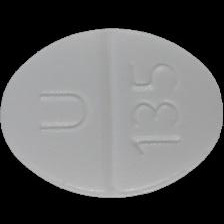0615-7947: (0, 0, 224, 224)
